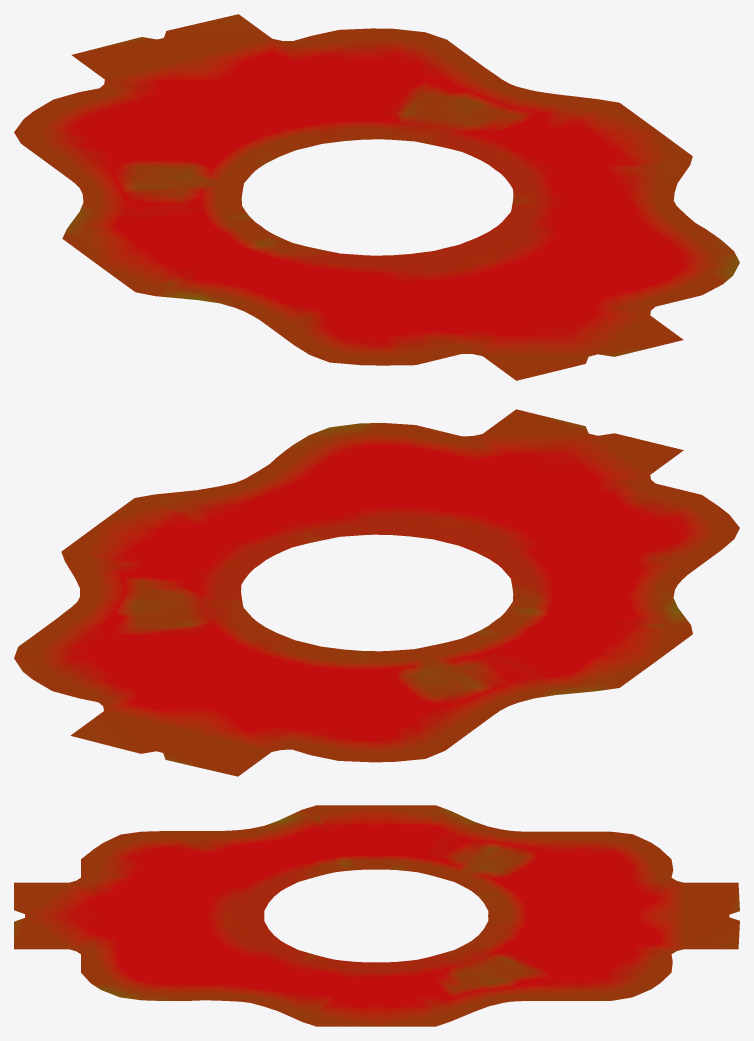
The model's file is pref_sm_beach_tech_hunt_beta_01_techunderwater02_lv3.fbx.
3 renders of one model, top to bottom at view 1: azimuth 30°, elevation 25°; view 2: azimuth 150°, elevation 25°; view 3: azimuth 270°, elevation 25°, orthographic. The views are drawn at different scales.
Parts seen in each view (by area): view 1: pref_sm_beach_tech_hunt_beta_01_techunderwater02_lv3; view 2: pref_sm_beach_tech_hunt_beta_01_techunderwater02_lv3; view 3: pref_sm_beach_tech_hunt_beta_01_techunderwater02_lv3.
Part boxes in pixels (x1,y1,x2,y2): pref_sm_beach_tech_hunt_beta_01_techunderwater02_lv3: (14, 14, 739, 380); pref_sm_beach_tech_hunt_beta_01_techunderwater02_lv3: (14, 409, 739, 776); pref_sm_beach_tech_hunt_beta_01_techunderwater02_lv3: (14, 805, 739, 1026).
Bounding box in the file's own units: 24.22 × 0.000198 × 33.55.
